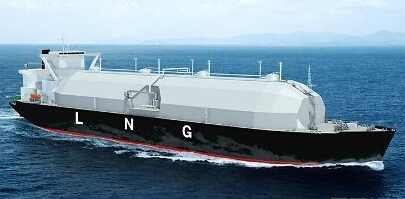Cargoship: (7, 34, 399, 168)
